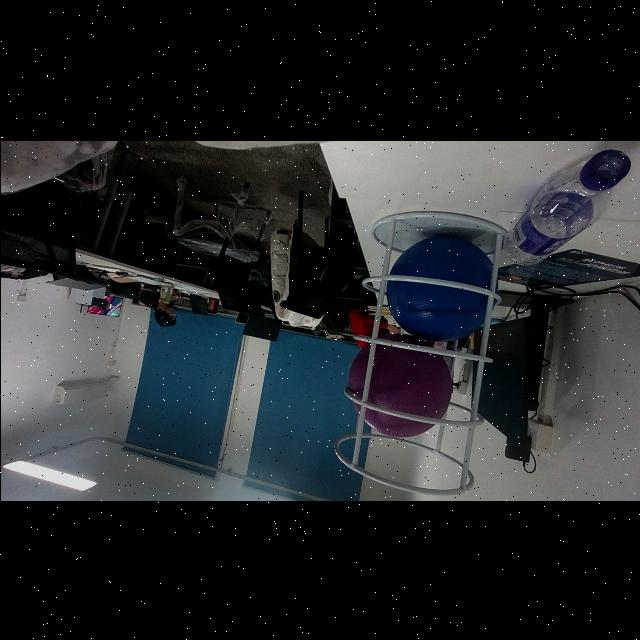B: (384, 234, 494, 340)
P: (349, 333, 453, 437)
S: (329, 211, 499, 497)
